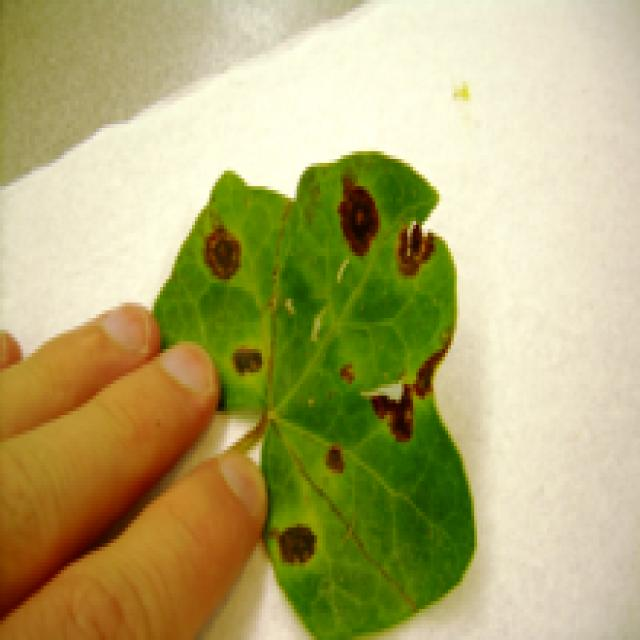Bacterial Blight: (204, 211, 443, 489)
